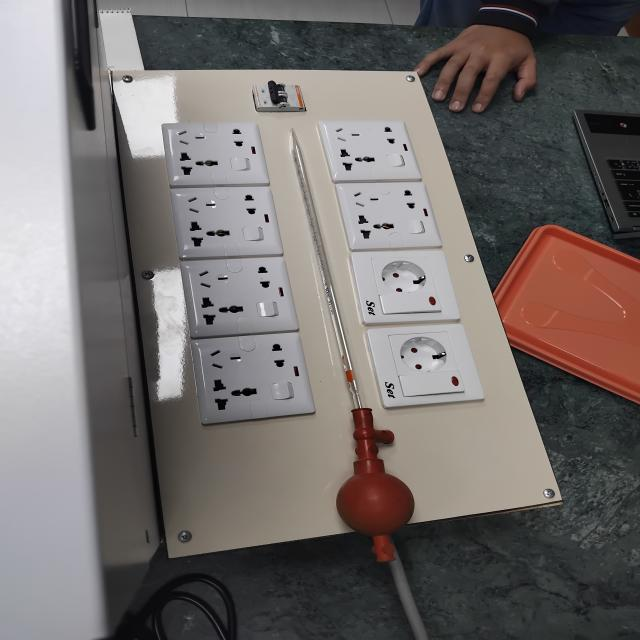Volumetric_Pipet: (257, 104, 450, 584)
